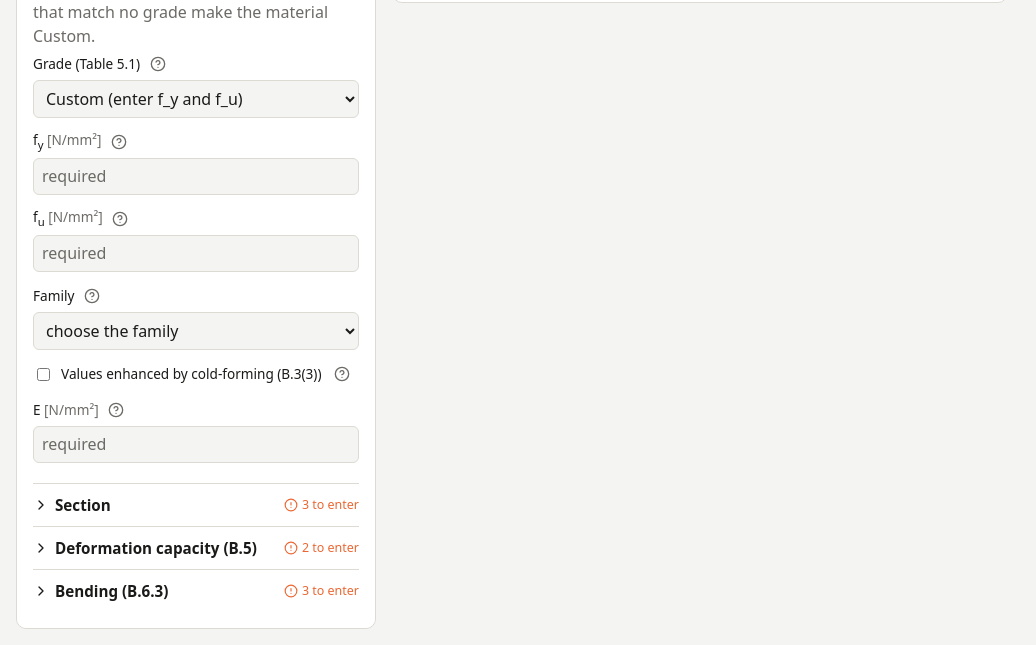
Scenario: the input dock › keeps one group open at a time
(page scrolled)
Step 1. Click the button "Section 3 to enter" → (83,505), box [33, 484, 359, 526]
(page scrolled)
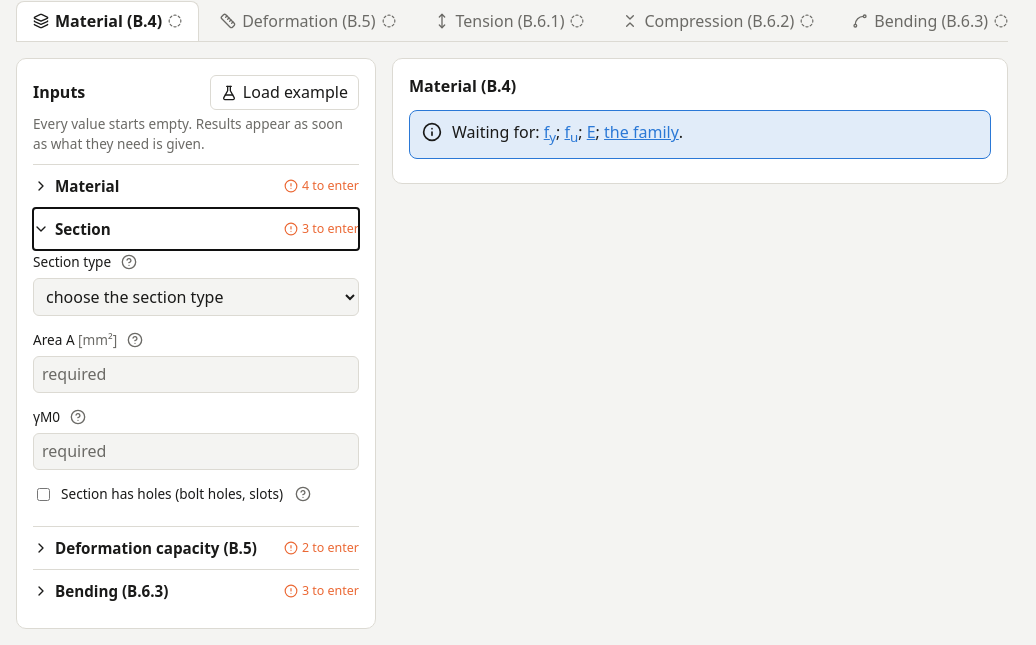
Expected: the button "Section 3 to enter" is expanded, [33, 208, 359, 250]
Expected: the button "Material 4 to enter" is collapsed, [33, 165, 359, 207]
Expected: the label labelled "fy[N/mm²]" is gone
